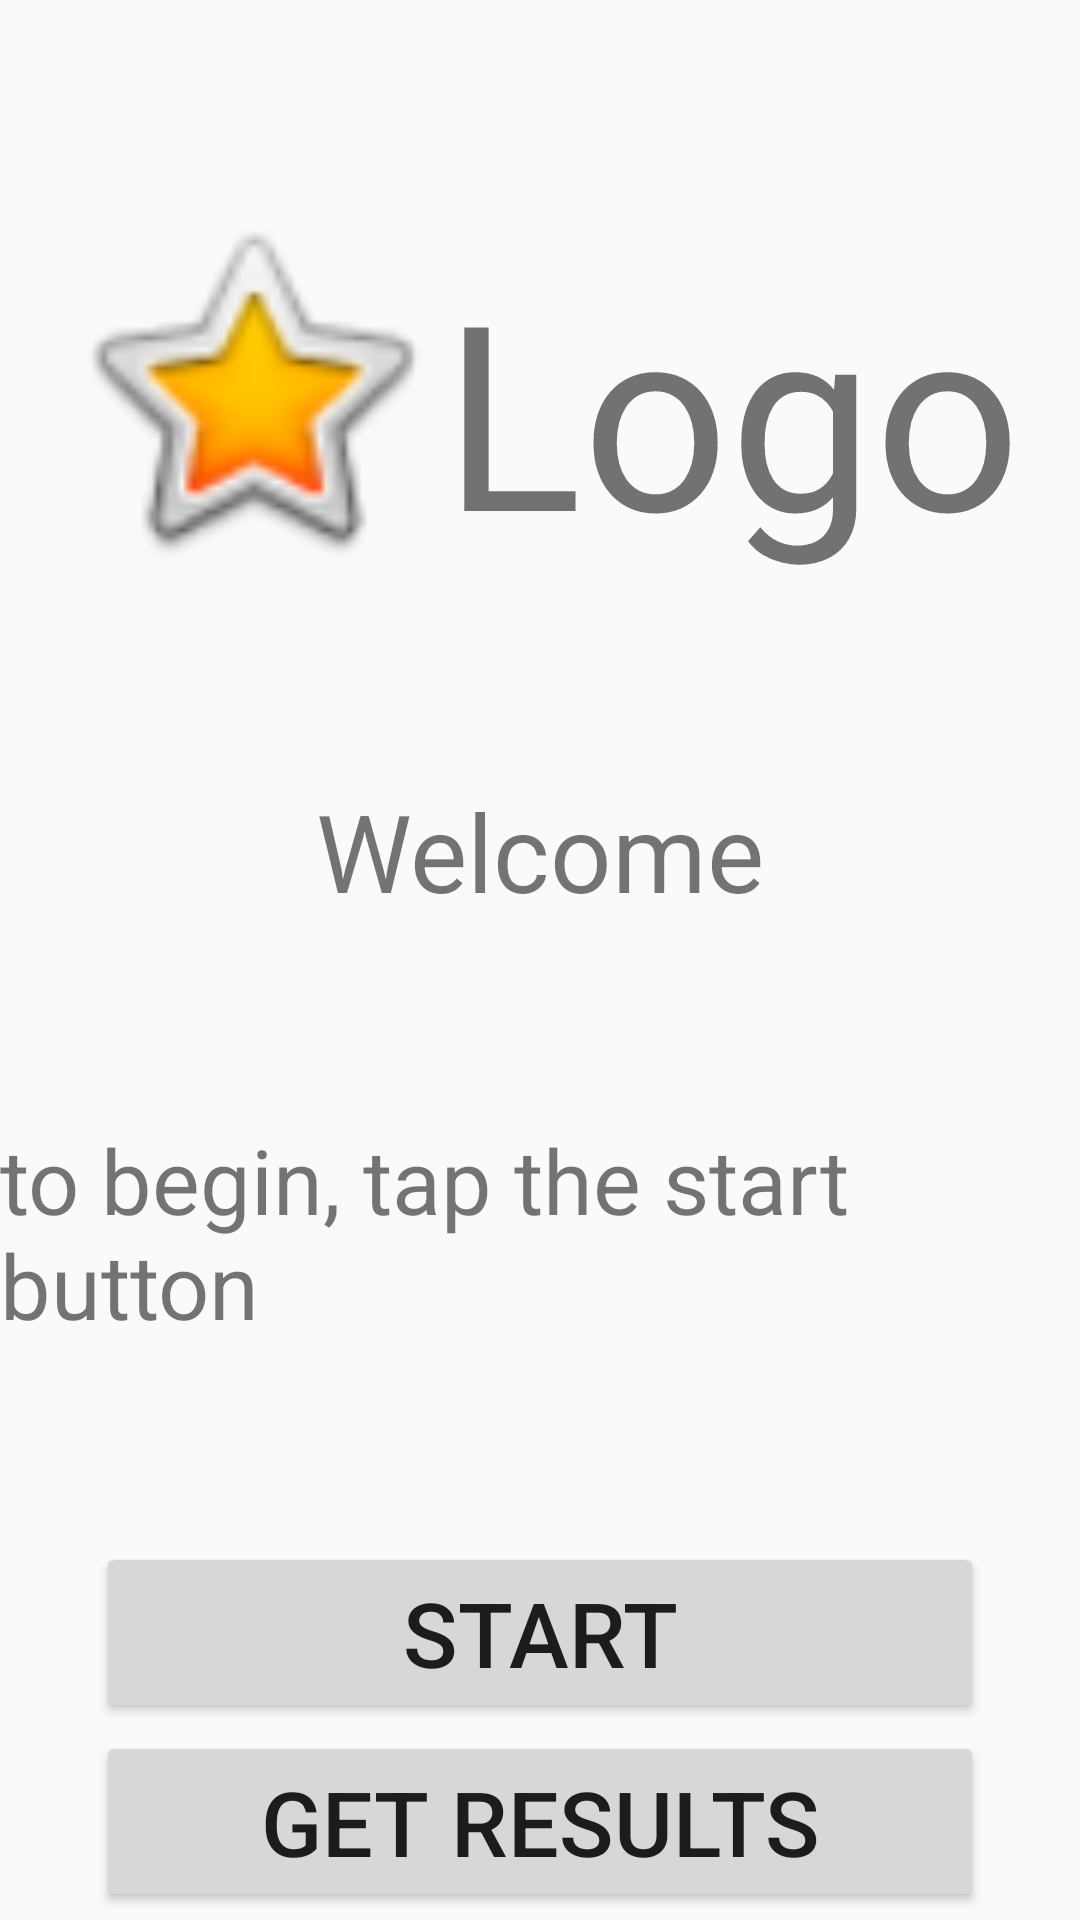

Where to tap for icons on this 1080*1920 app screen, as (x,y):
star on: (254,392)
